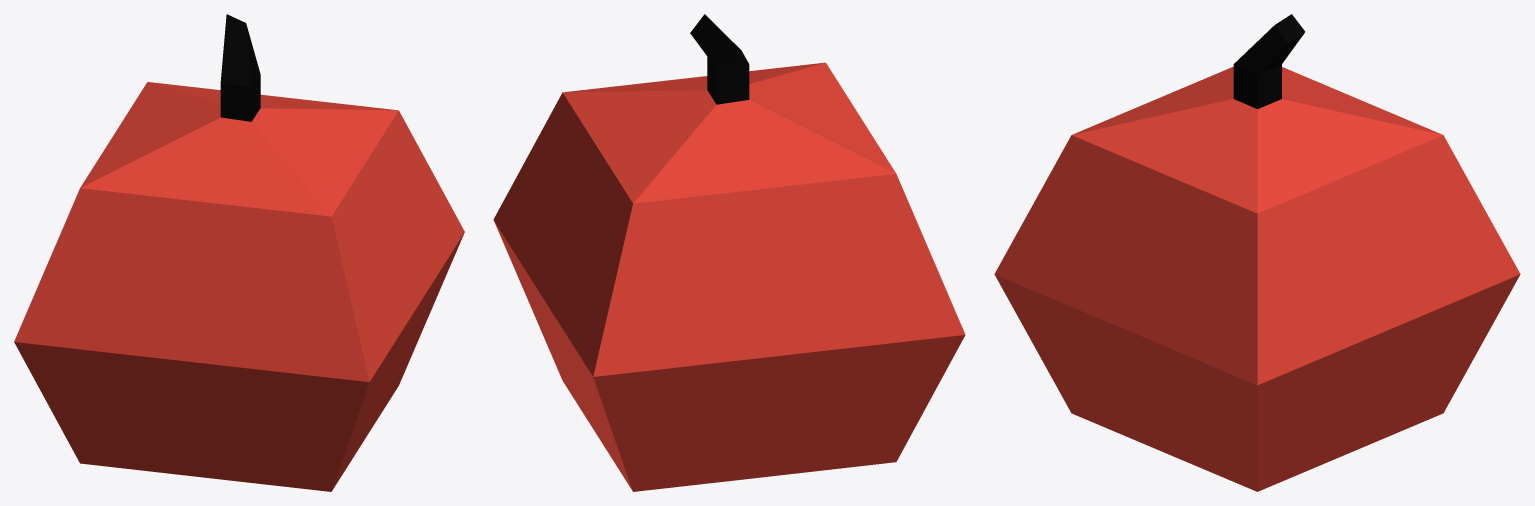
The model's file is apple.fbx.
The picture shows the model from 3 angles, left to right: view 1: azimuth 30°, elevation 25°; view 2: azimuth 150°, elevation 25°; view 3: azimuth 270°, elevation 25°; orthographic projection. The views are drawn at different scales.
Visible parts, largest first — view 1: Apple; view 2: Apple; view 3: Apple.
Part boxes in pixels (bbox=[...]): Apple: bbox=[14, 14, 464, 491]; Apple: bbox=[493, 14, 965, 491]; Apple: bbox=[994, 14, 1520, 491].
Bounding box in the file's own units: 200 × 193 × 200.
